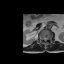CCS_normal: (44, 36, 46, 42)
LFS_stenosis: (47, 37, 49, 41)
LLS_normal: (46, 37, 47, 41)
RFS_normal: (41, 36, 43, 41)
RLS_normal: (43, 36, 44, 42)
